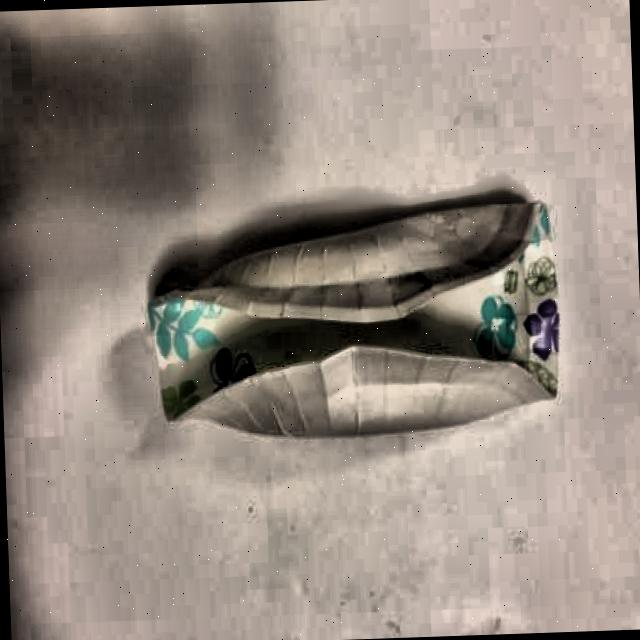paper: (145, 197, 568, 450)
